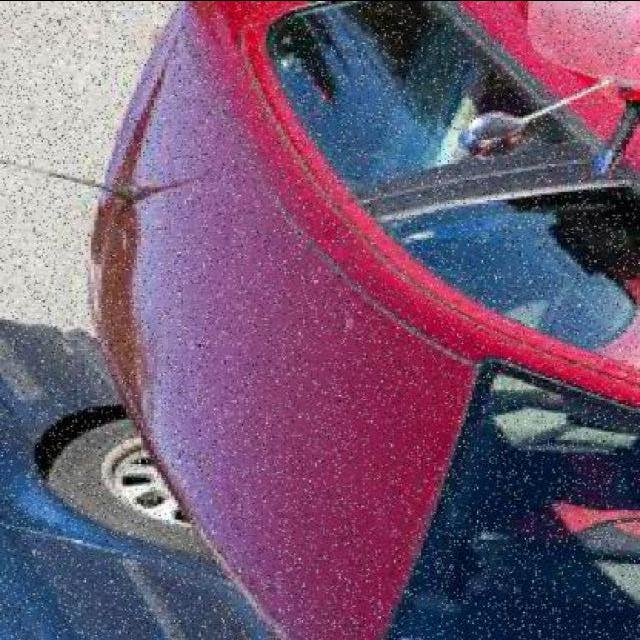roof-dent: (132, 454, 448, 640), (123, 270, 410, 468), (105, 101, 281, 269)
